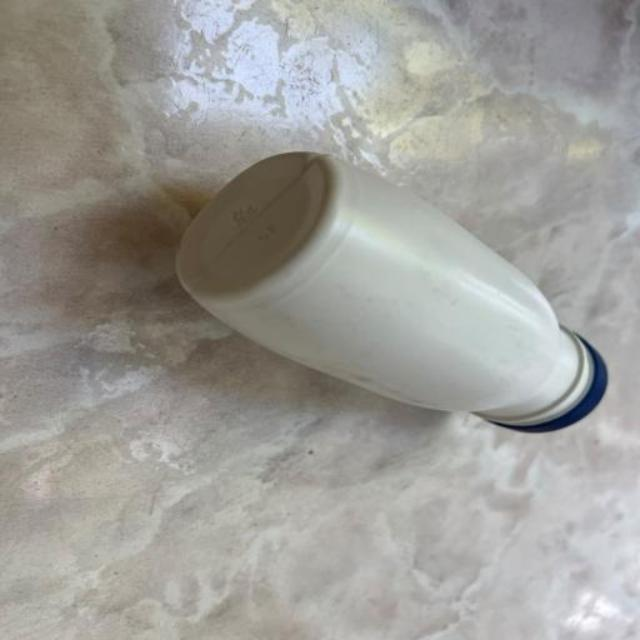HDPE: (166, 151, 611, 484)
